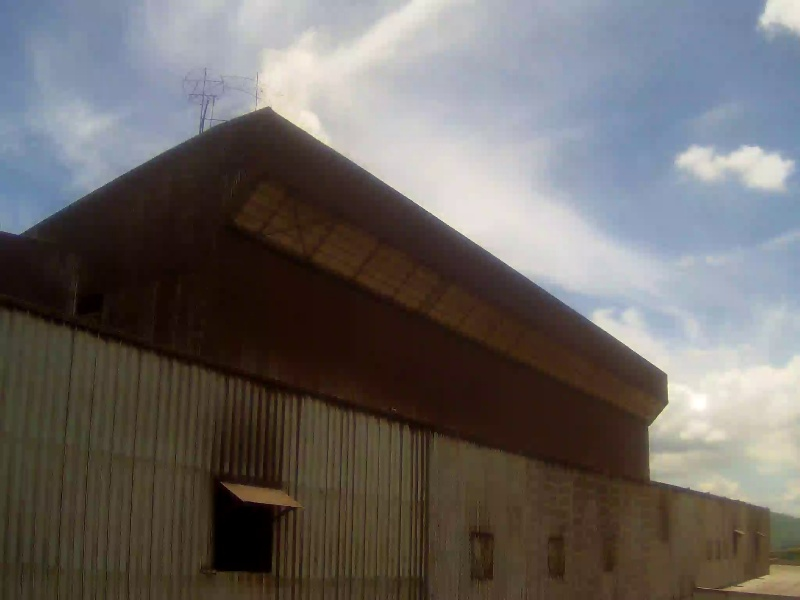bom: (271, 50, 678, 399), (4, 18, 274, 199), (631, 285, 781, 448)
